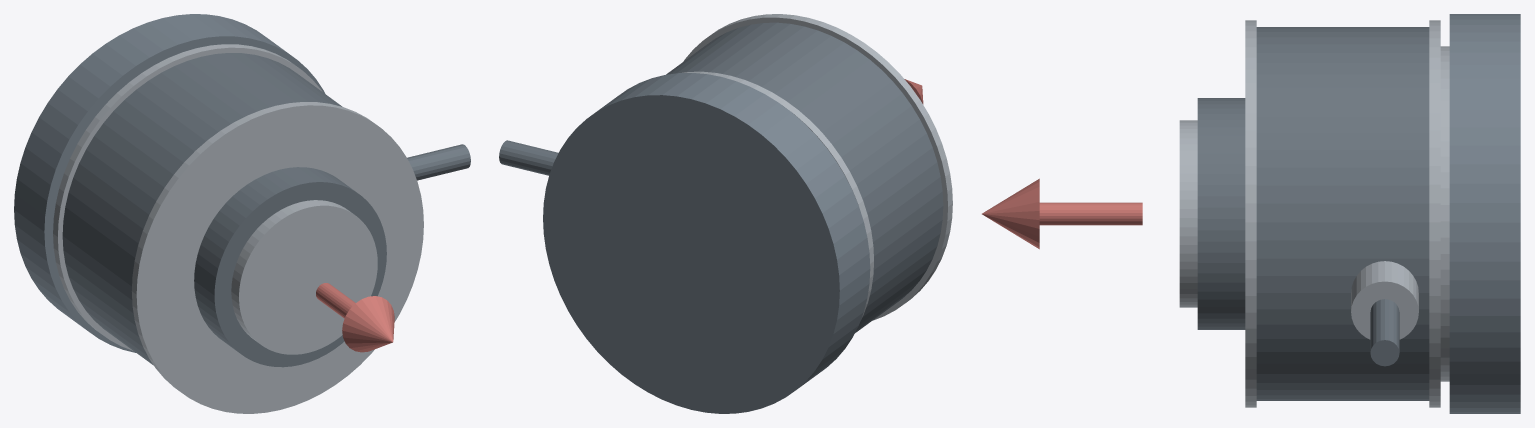
File: piezoelectric-transducer.glb
The picture shows the model from 3 angles, left to right: view 1: azimuth 30°, elevation 25°; view 2: azimuth 150°, elevation 25°; view 3: azimuth 270°, elevation 25°; orthographic projection. The views are drawn at different scales.
Visible parts, largest first — view 1: part_10, part_08, part_00, part_07, part_06, part_09, part_14, part_12, part_13; view 2: part_00, part_08, part_10, part_09, part_12; view 3: part_08, part_00, part_06, part_09, part_10, part_07, part_11, part_01, part_13, part_14, part_12.
Part boxes in pixels (x1,y1,x2,y2): part_10: [131, 102, 423, 413]; part_08: [62, 53, 342, 365]; part_00: [14, 14, 325, 352]; part_07: [231, 200, 377, 354]; part_06: [194, 167, 386, 367]; part_09: [53, 44, 322, 350]; part_14: [342, 296, 394, 352]; part_12: [407, 144, 470, 180]; part_13: [316, 283, 355, 318]; part_00: [543, 73, 870, 413]; part_08: [666, 22, 943, 332]; part_10: [683, 14, 952, 320]; part_09: [682, 71, 873, 319]; part_12: [499, 140, 558, 175]; part_08: [1256, 27, 1429, 400]; part_00: [1449, 14, 1520, 413]; part_06: [1197, 98, 1245, 329]; part_09: [1429, 20, 1440, 407]; part_10: [1245, 20, 1256, 407]; part_07: [1179, 120, 1197, 307]; part_11: [1351, 261, 1418, 339]; part_01: [1440, 46, 1449, 381]; part_13: [1039, 202, 1142, 225]; part_14: [982, 178, 1039, 249]; part_12: [1370, 299, 1399, 366].
Bounding box in the file's own units: 1.64 × 1.24 × 1.67.
